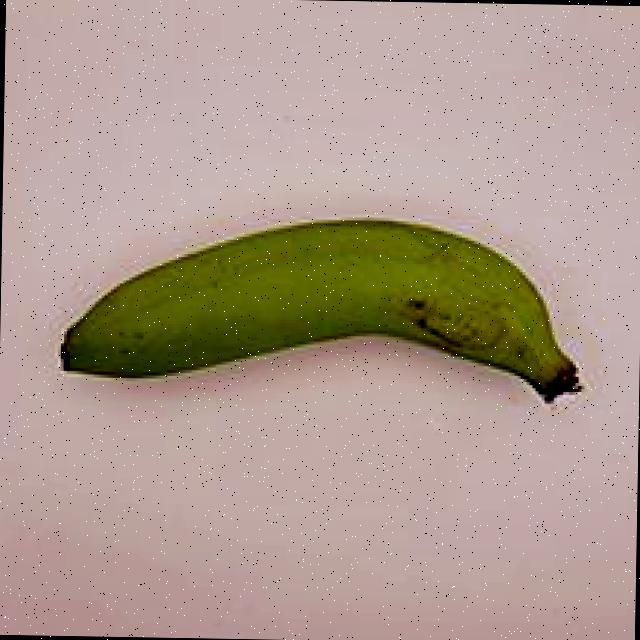Raw: (47, 184, 607, 486)
